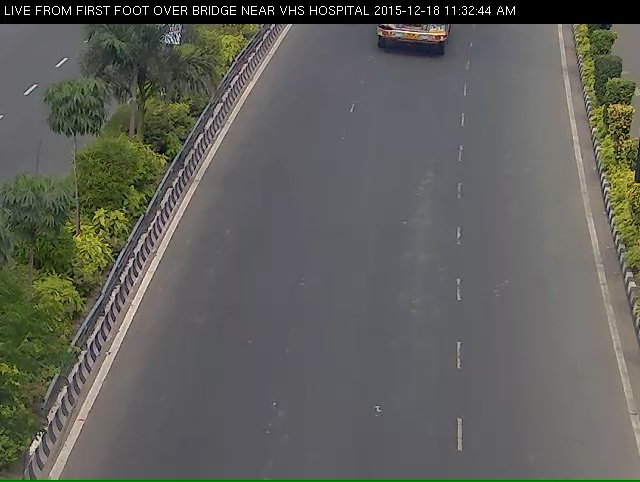Bus: (365, 12, 457, 65)
